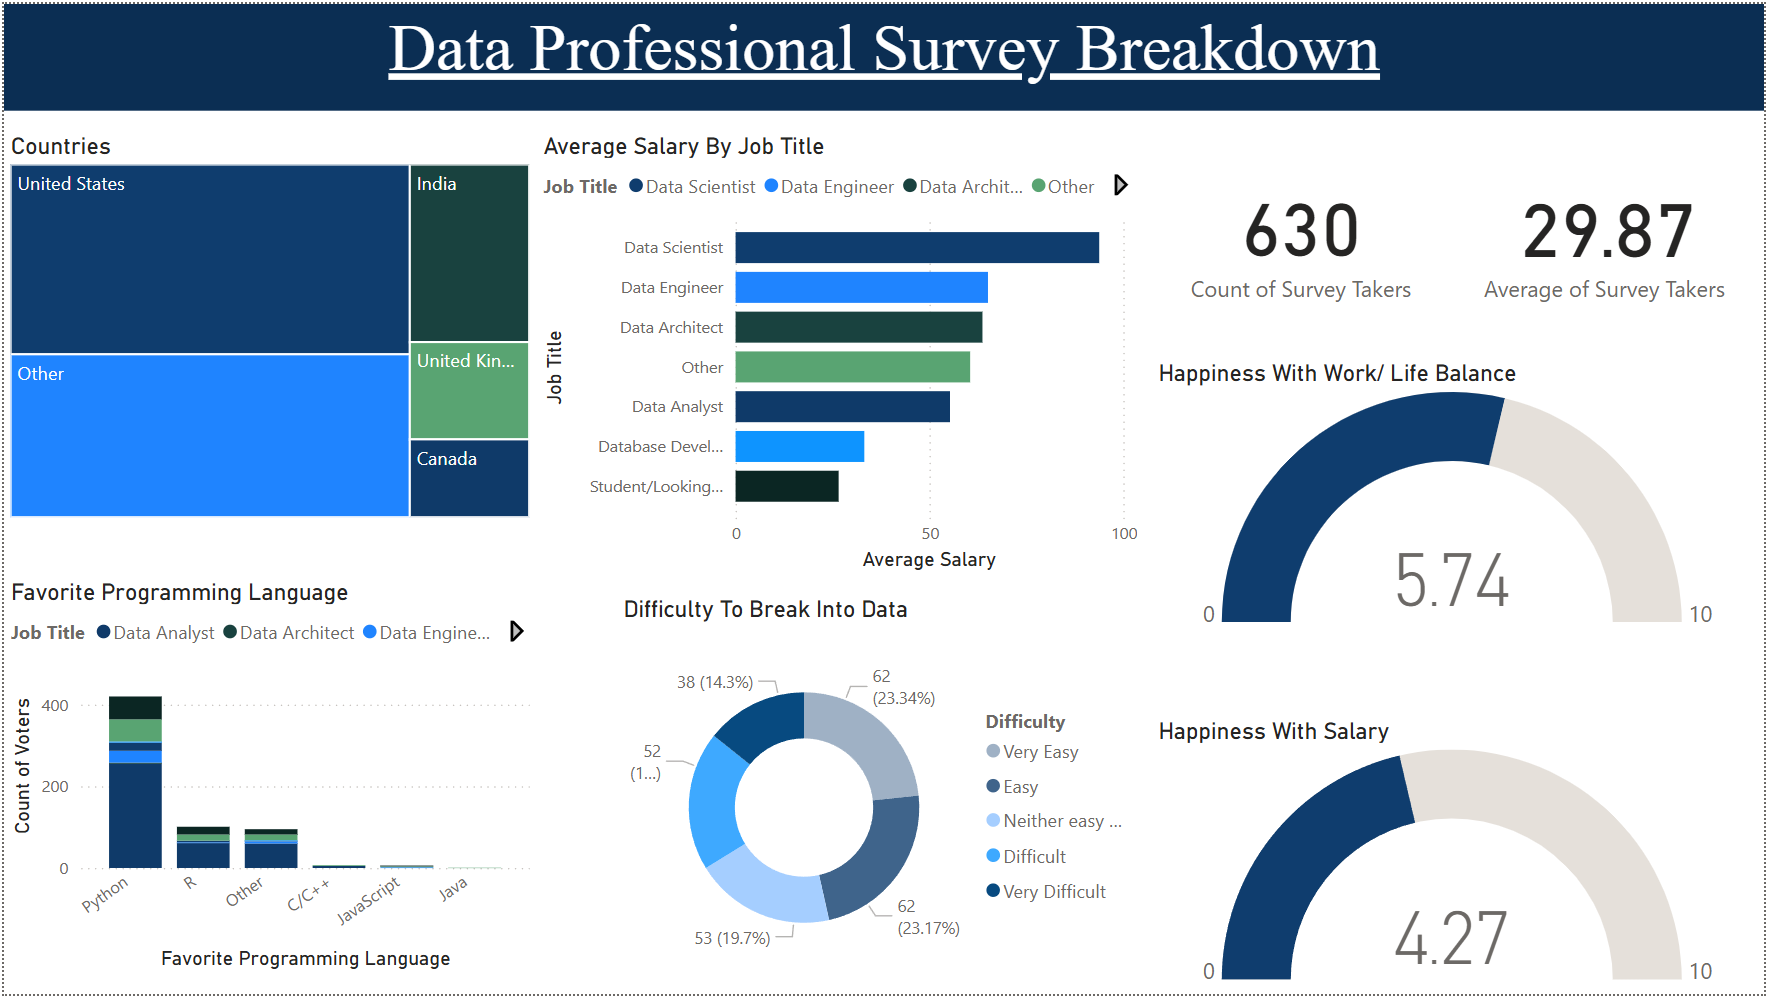

What the dashboard file says about the page in this screenshot:
{"tool":"powerbi","page":{"name":"Page 1","canvas":[1280,720],"ordinal":0},"visuals":[{"type":"textbox","box":[0,0,1280.3,77.8],"z":0},{"type":"card","fields":{"Values":["Count(Data Professional Survey.Unique ID)"]},"box":[834.5,92.7,218.2,151.8],"z":1000},{"type":"card","fields":{"Values":["Avg(Data Professional Survey.Q10 - Current Age)"]},"box":[1052.7,92.7,227.3,151.8],"z":2000},{"type":"barChart","title":"Average Salary By Job Title","fields":{"Category":["Data Professional Survey.Q1 - Which Title Best Fits your Current Role?.1"],"Y":["Avg(Data Professional Survey.Average Salary)"],"Series":["Data Professional Survey.Q1 - Which Title Best Fits your Current Role?.1"]},"box":[387.1,92.9,441.4,324.3],"z":3000},{"type":"columnChart","title":"Favorite Programming Language","fields":{"Category":["Data Professional Survey.Q5 - Favorite Programming Language.1"],"Y":["CountNonNull(Data Professional Survey.Unique ID)"],"Series":["Data Professional Survey.Q1 - Which Title Best Fits your Current Role?.1"]},"box":[0,417.1,387.1,290],"z":4000},{"type":"treemap","title":"Countries","fields":{"Group":["Data Professional Survey.Q11 - Which Country do you live in?.1"],"Values":["CountNonNull(Data Professional Survey.Q11 - Which Country do you live in?.1)"]},"box":[0,92.9,387.1,285.7],"z":5000},{"type":"gauge","title":"Happiness With Work/ Life Balance","fields":{"Y":["Avg(Data Professional Survey.Q6 - How Happy are you in your Current Position with the following? (Work/Life Balance))"],"MinValue":["Min(Data Professional Survey.Q6 - How Happy are you in your Current Position with the following? (Work/Life Balance))1"],"MaxValue":["Max(Data Professional Survey.Q6 - How Happy are you in your Current Position with the following? (Work/Life Balance))2"]},"box":[834.3,258.6,445.7,201.4],"z":6000},{"type":"gauge","title":"Happiness With Salary","fields":{"Y":["Avg(Data Professional Survey.Q6 - How Happy are you in your Current Position with the following? (Salary))"],"MaxValue":["Max(Data Professional Survey.Q6 - How Happy are you in your Current Position with the following? (Salary))1"],"MinValue":["Min(Data Professional Survey.Q6 - How Happy are you in your Current Position with the following? (Salary))2"]},"box":[834.3,518.6,445.7,201.4],"z":7000},{"type":"donutChart","title":"Difficulty To Break Into Data","fields":{"Y":["Avg(Data Professional Survey.Average Salary)"],"Category":["Data Professional Survey.Q7 - How difficult was it for you to break into Data?"]},"box":[445.7,430,387.1,290],"z":8000}]}

Visuals, with their boxes in screenshot pixels (x1, y1, x2, y2), scaled from the page's 1280x720 canvas onto the 1766x996 screenshot:
textbox: 0/0/1765/108
card - Count(Data Professional Survey.Unique ID): 1151/128/1452/338
card - Avg(Data Professional Survey.Q10 - Current Age): 1452/128/1765/338
"Average Salary By Job Title" barChart: 534/129/1143/577
"Favorite Programming Language" columnChart: 0/577/534/978
"Countries" treemap: 0/129/534/524
"Happiness With Work/ Life Balance" gauge: 1151/358/1765/636
"Happiness With Salary" gauge: 1151/717/1765/995
"Difficulty To Break Into Data" donutChart: 615/595/1149/995
